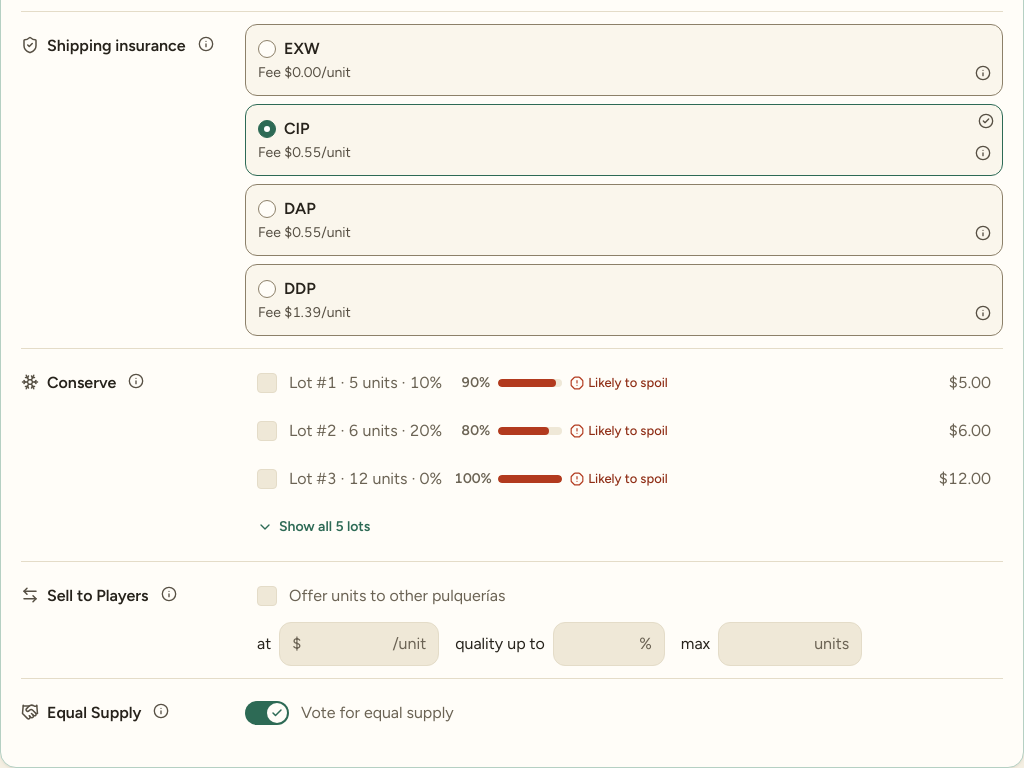
Test: conserve list: three lots, then Show all (spec 13.7) › the toggle still works on a locked form
The image size is (1024, 768).
(page scrolled)
Click the button "Show all 5 lots": {"x": 314, "y": 527} [245,505,382,549]
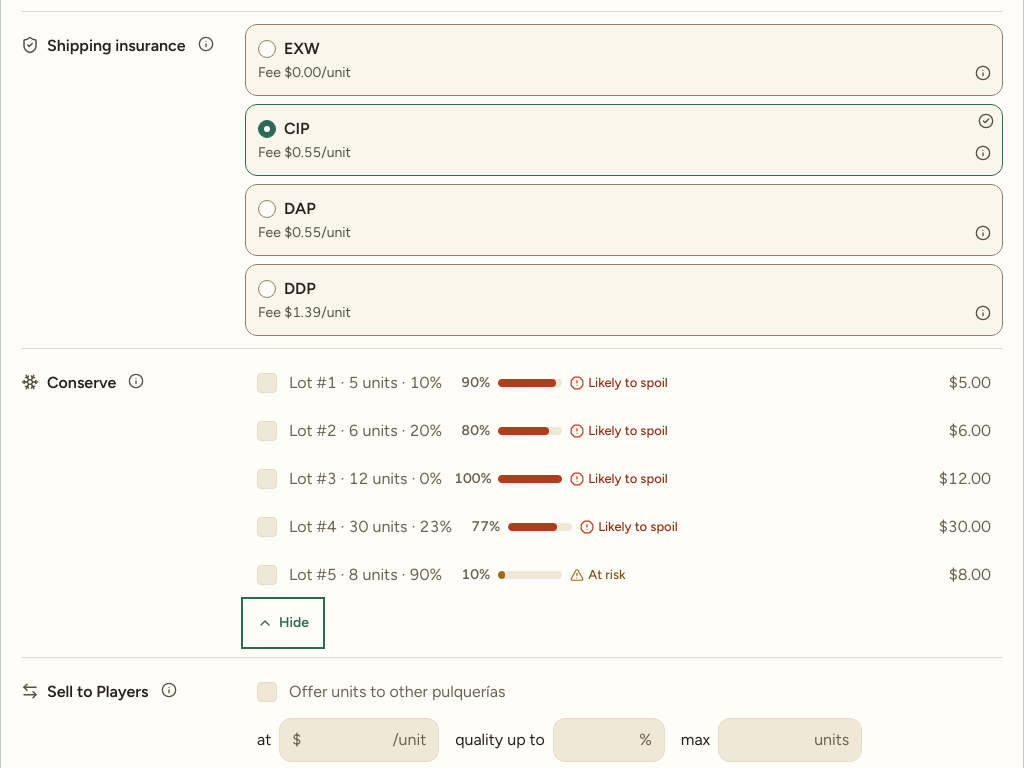
Now the checkbox labelled "Lot #5 · 8 units · 90% 10% At risk $8.00" is shown, box [257,565,991,585]
